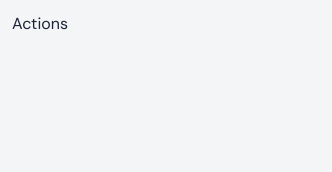
useTouchSafeMenu › opens on a completed tap
Click the button "Actions": [40, 24] box [12,12,68,36]
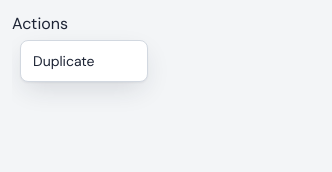
Expected: the menu item "Duplicate" is shown, [33,52,95,70]
